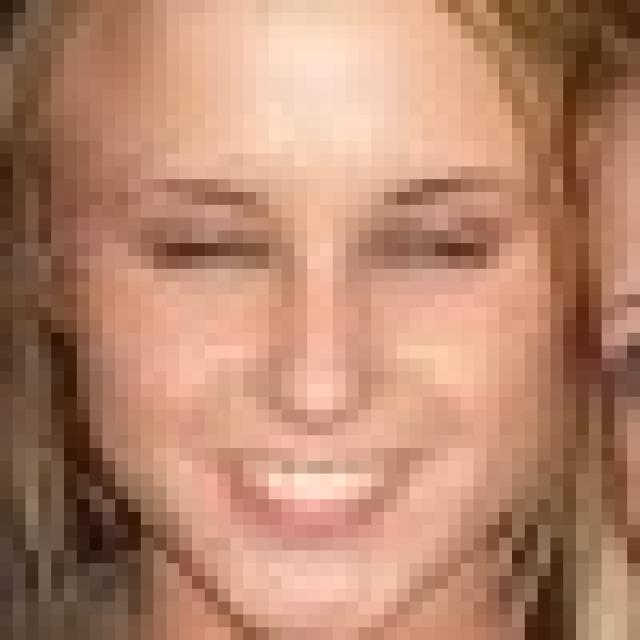Eyeclosed: (154, 223, 268, 283), (400, 226, 489, 276)
